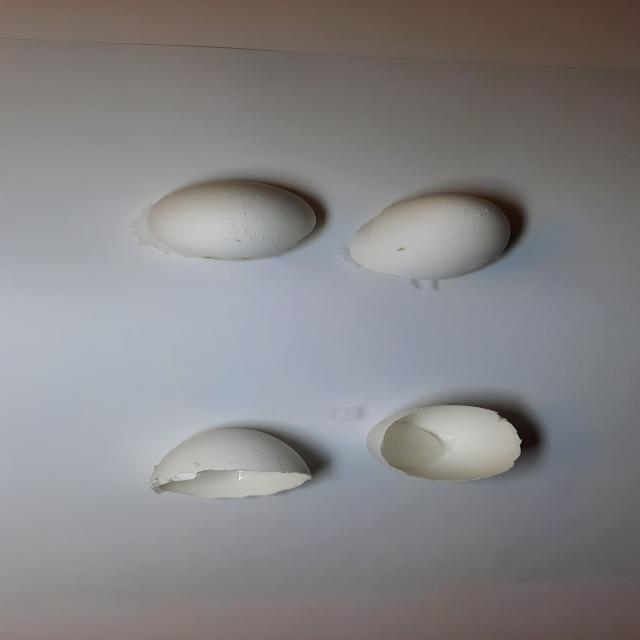egg shell: (327, 187, 528, 295), (122, 174, 328, 276), (133, 418, 331, 512), (364, 402, 526, 487)
